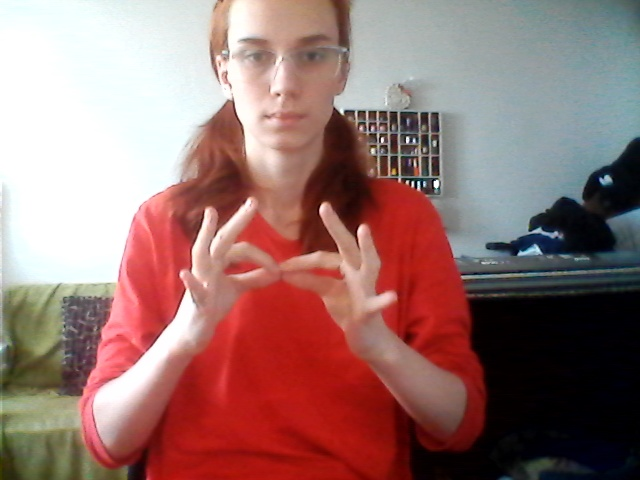b: (169, 194, 399, 361)
